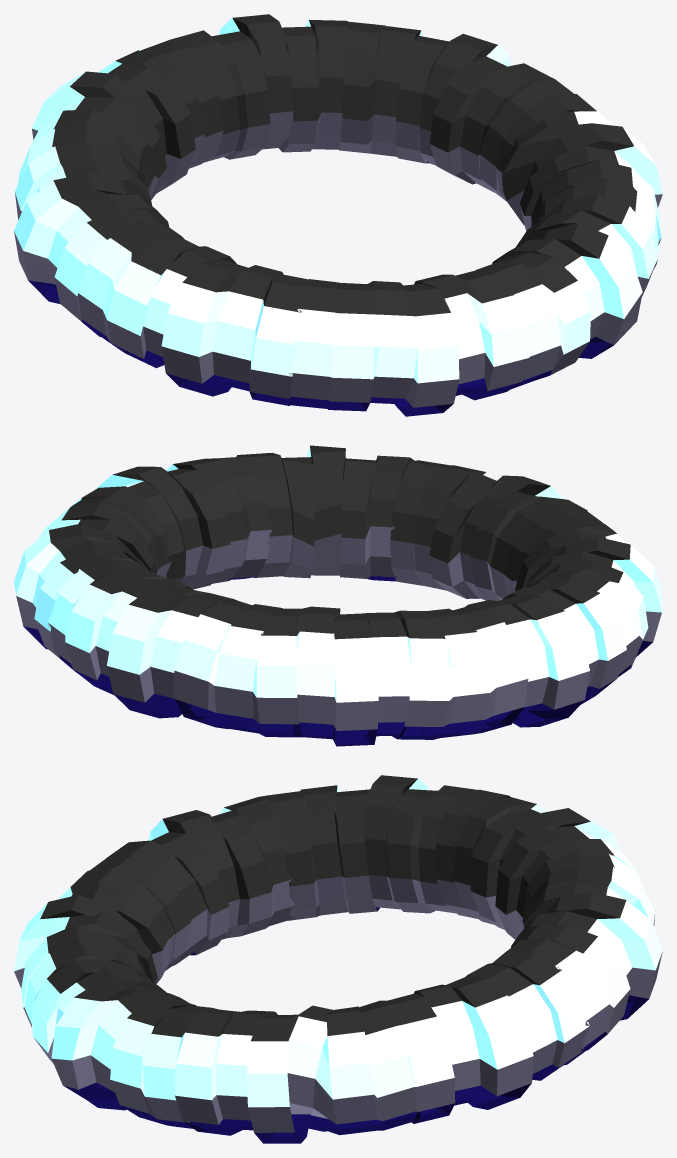
Rendered from for_the_joker_this_is_just_a_normal_donut (1).fbx.
The picture shows the model from 3 angles, top to bottom: view 1: azimuth 30°, elevation 25°; view 2: azimuth 150°, elevation 25°; view 3: azimuth 270°, elevation 25°; orthographic projection. The views are drawn at different scales.
Parts seen in each view (by area): view 1: Torus.001; view 2: Torus.001; view 3: Torus.001.
Part boxes in pixels (x1,y1,x2,y2): Torus.001: (14, 14, 662, 416); Torus.001: (14, 445, 662, 746); Torus.001: (14, 775, 662, 1143).
Bounding box in the file's own units: 2009 × 581 × 1996.
